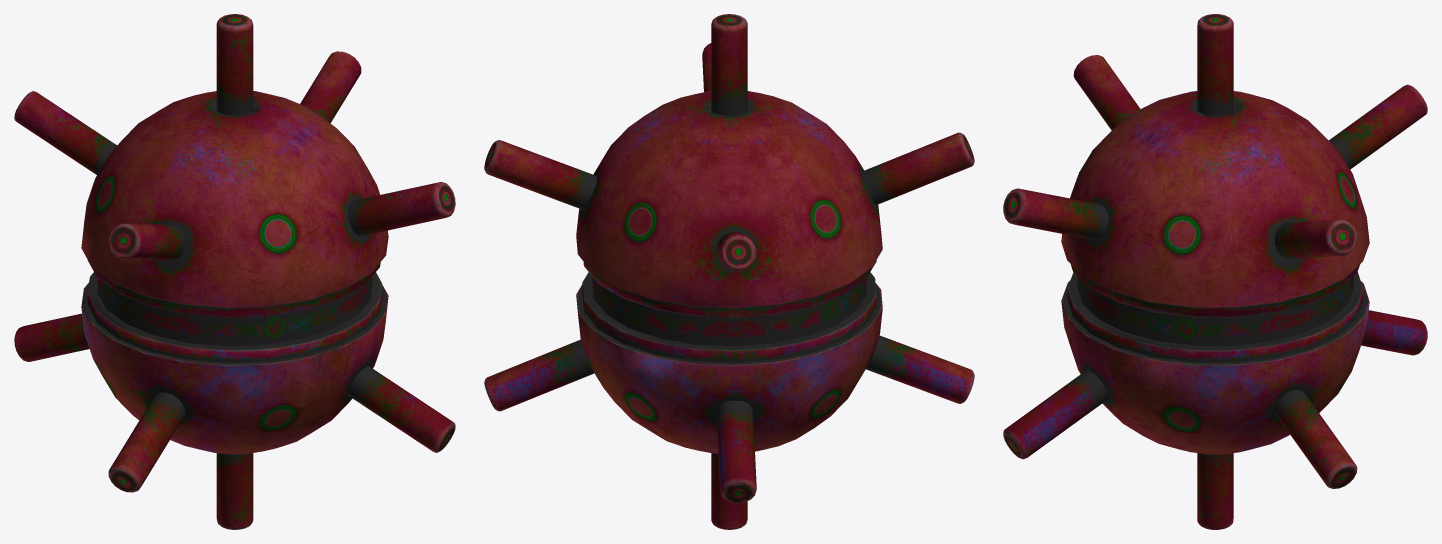
Rendered from bomb02.fbx.
The picture shows the model from 3 angles, left to right: view 1: azimuth 30°, elevation 25°; view 2: azimuth 150°, elevation 25°; view 3: azimuth 270°, elevation 25°; orthographic projection.
Parts seen in each view (by area): view 1: Space Bomb 2; view 2: Space Bomb 2; view 3: Space Bomb 2.
Part boxes in pixels (x1,y1,x2,y2): Space Bomb 2: (14, 14, 455, 529); Space Bomb 2: (484, 14, 974, 529); Space Bomb 2: (1003, 14, 1427, 529).
Size of the model in its own units: 332 by 435 by 332.
